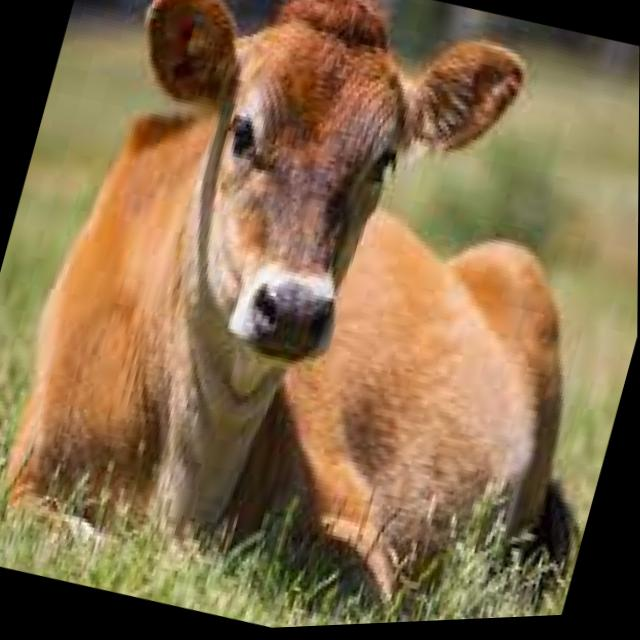cowFace: (54, 0, 543, 426)
